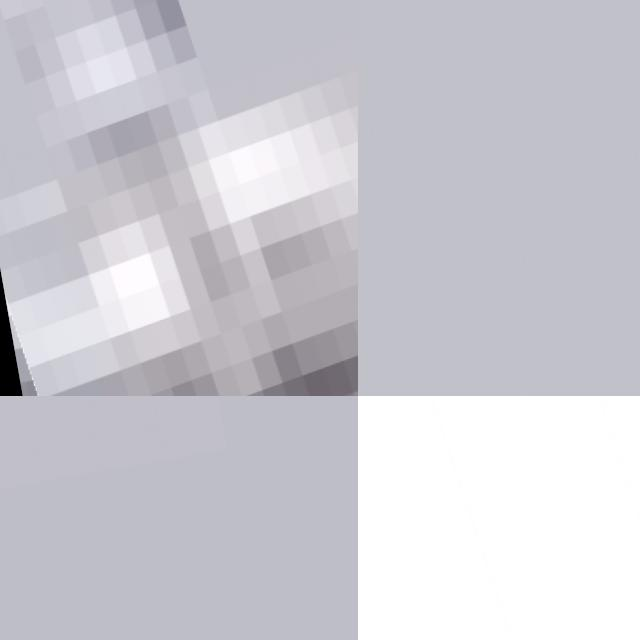0: (0, 0, 358, 396)
drone: (358, 396, 640, 640)
